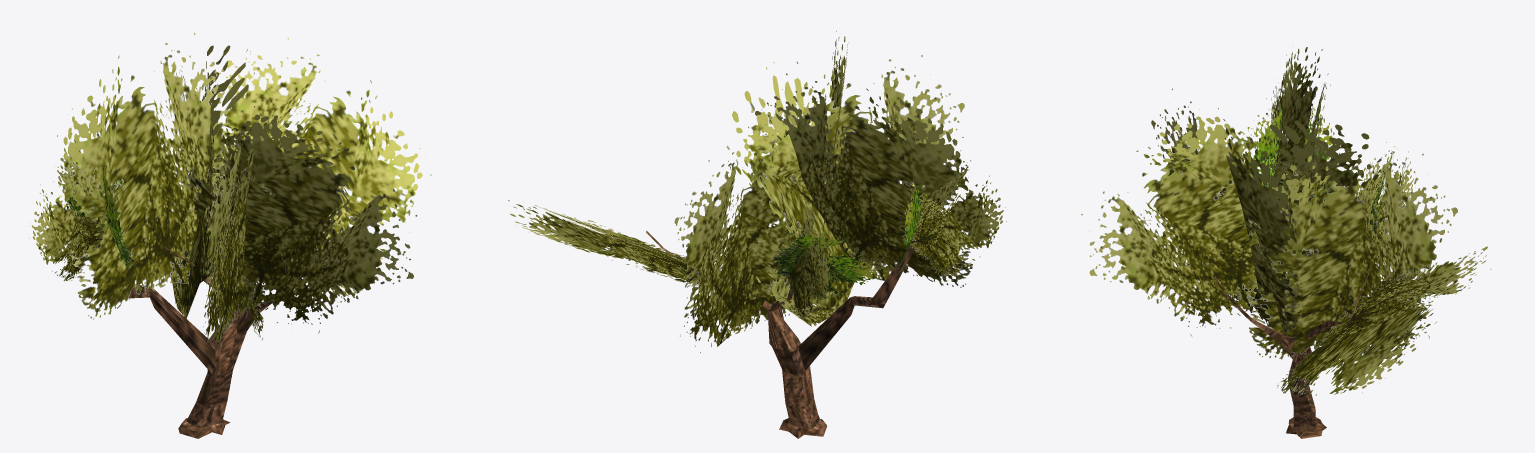
The model's file is Tree_Desert.fbx.
3 views of the same model, side by side, from view 1: azimuth 30°, elevation 25°; view 2: azimuth 150°, elevation 25°; view 3: azimuth 270°, elevation 25° (orthographic). The views are drawn at different scales.
Visible parts, largest first — view 1: Leaves.011; view 2: Leaves.011; view 3: Leaves.011.
Part boxes in pixels (x1=…): Leaves.011: x1=29, y1=32, x2=431, y2=438; Leaves.011: x1=508, y1=31, x2=1006, y2=438; Leaves.011: x1=1081, y1=47, x2=1491, y2=438.
Bounding box in the file's own units: 25771 × 19966 × 22952.
